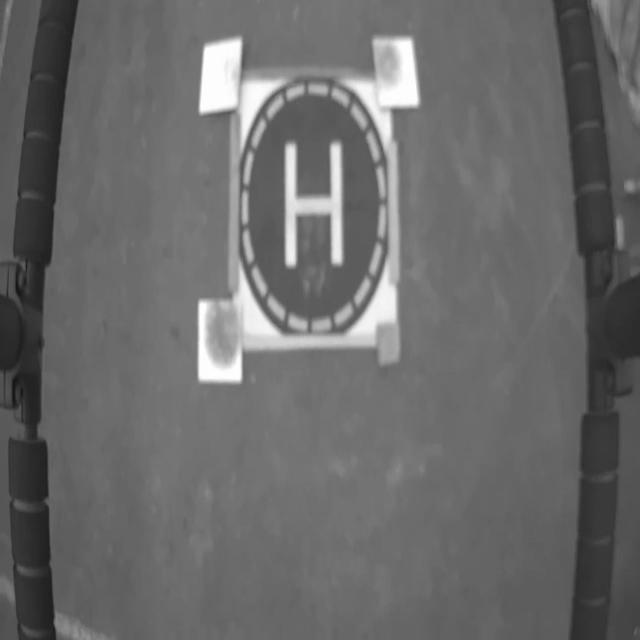Helipad: (284, 140, 345, 271)
